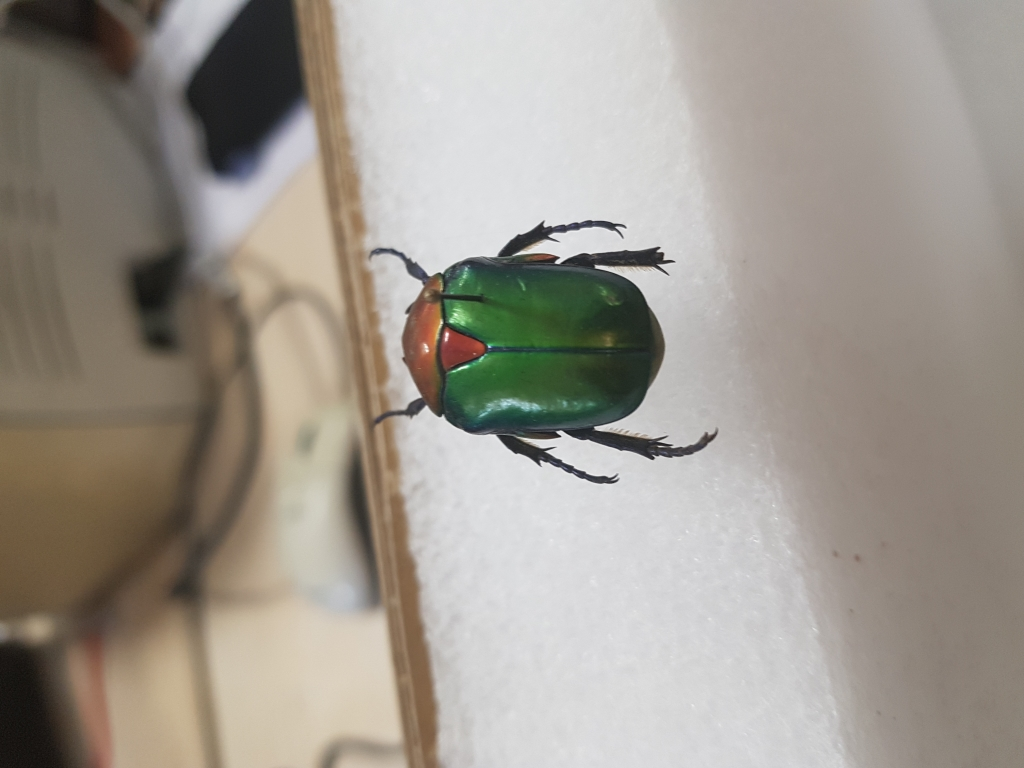Protaetia_speciosa_jousselini: (365, 205, 719, 489)
